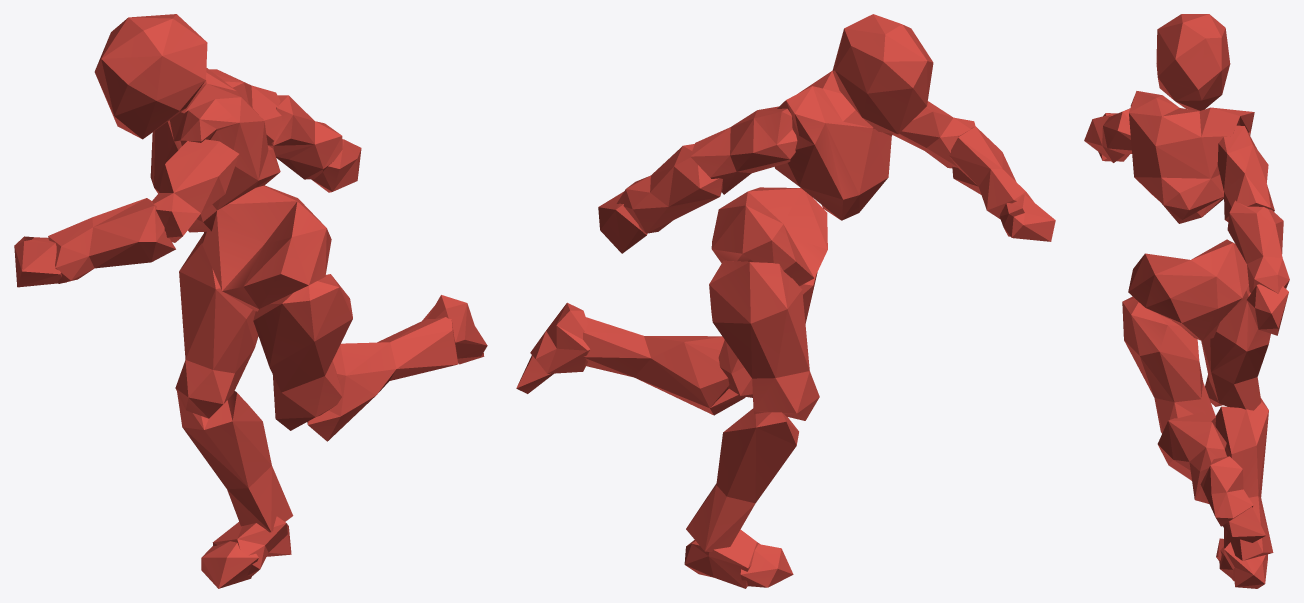
Rendered from 2dancer0194.obj.
3 views of the same model, side by side, from view 1: azimuth 30°, elevation 25°; view 2: azimuth 150°, elevation 25°; view 3: azimuth 270°, elevation 25° (orthographic). The views are drawn at different scales.
Visible parts, largest first — view 1: Beta_Surface; view 2: Beta_Surface; view 3: Beta_Surface.
Part boxes in pixels (box(x1,y1,x2,y2)): Beta_Surface: box(14, 14, 487, 588); Beta_Surface: box(516, 14, 1055, 588); Beta_Surface: box(1084, 14, 1289, 588).
Size of the model in its own units: 1.51 by 1.71 by 0.6197.
